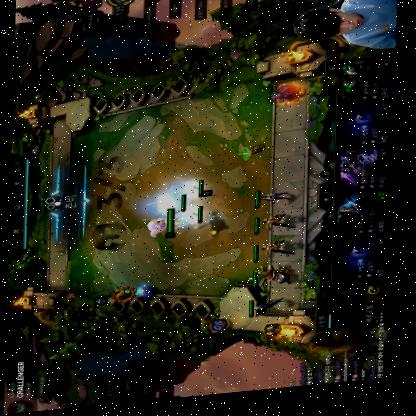streamer: (291, 0, 397, 63)
